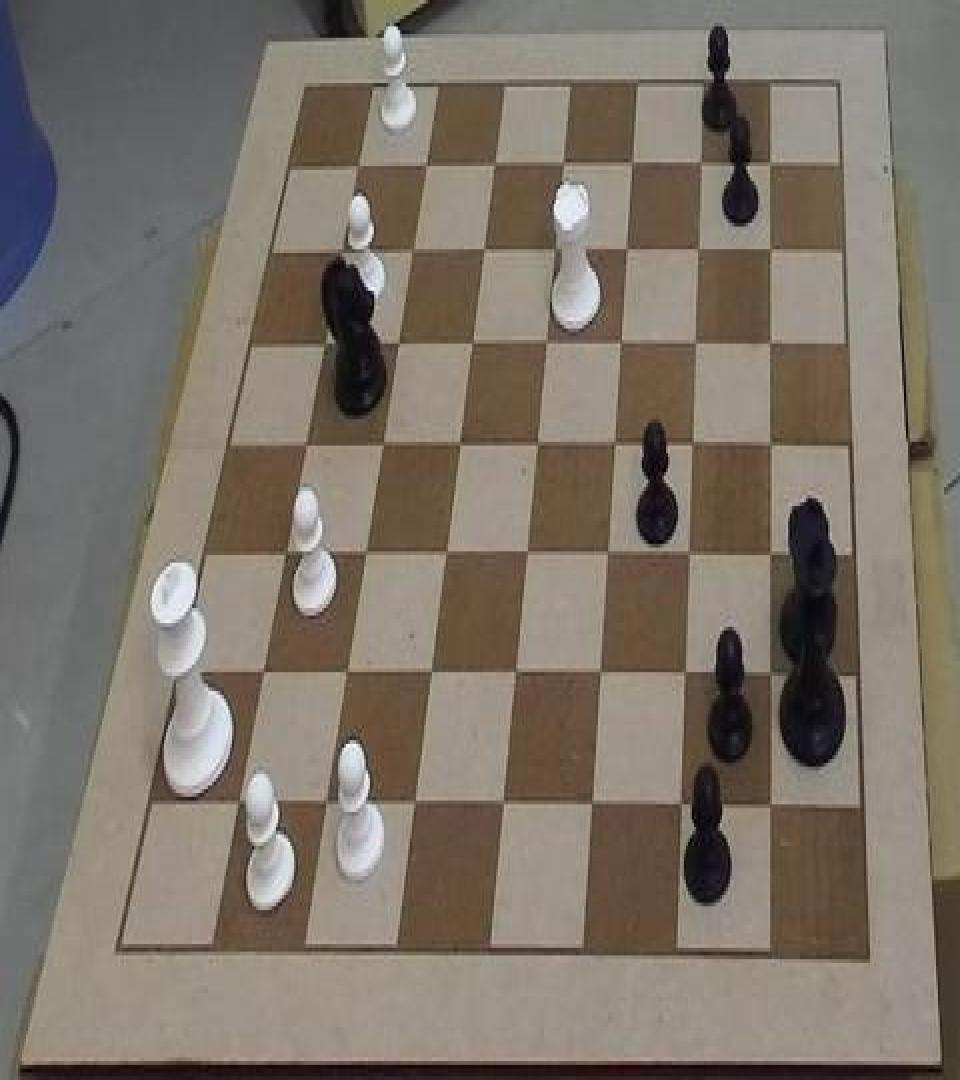xcorner: (759, 147, 779, 185), (690, 147, 710, 185), (621, 147, 641, 185), (552, 149, 572, 187), (484, 149, 504, 187), (415, 149, 435, 187), (347, 149, 367, 187), (760, 234, 780, 272), (688, 234, 708, 272), (616, 234, 636, 272), (544, 234, 564, 272), (473, 234, 493, 272), (402, 234, 422, 272), (331, 234, 351, 272), (760, 326, 780, 364), (685, 326, 705, 364), (610, 326, 630, 364), (536, 326, 556, 364), (461, 326, 481, 364), (387, 326, 407, 364), (314, 326, 334, 364), (760, 428, 780, 466), (682, 428, 702, 466), (604, 428, 624, 466), (526, 428, 546, 466), (449, 428, 469, 466), (372, 428, 392, 466), (295, 428, 315, 466), (760, 538, 780, 576), (679, 538, 699, 576), (597, 538, 617, 576), (516, 538, 536, 576), (436, 538, 456, 576), (355, 538, 375, 576), (275, 536, 295, 574), (761, 659, 781, 697), (675, 659, 695, 697), (590, 659, 610, 697), (505, 657, 525, 695), (421, 657, 441, 695), (336, 657, 356, 695), (253, 657, 273, 695), (761, 793, 781, 831), (671, 791, 691, 829), (582, 791, 602, 829), (493, 789, 513, 827), (404, 789, 424, 827), (316, 787, 336, 825), (228, 787, 248, 825)
